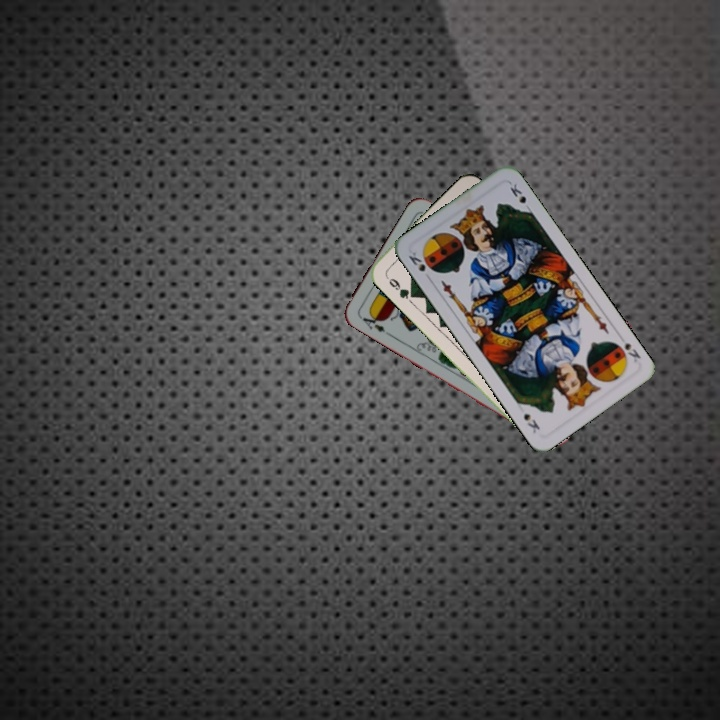EA: (356, 309, 393, 338)
G9: (381, 271, 416, 302)
SK: (404, 246, 434, 283), (620, 338, 643, 365)
